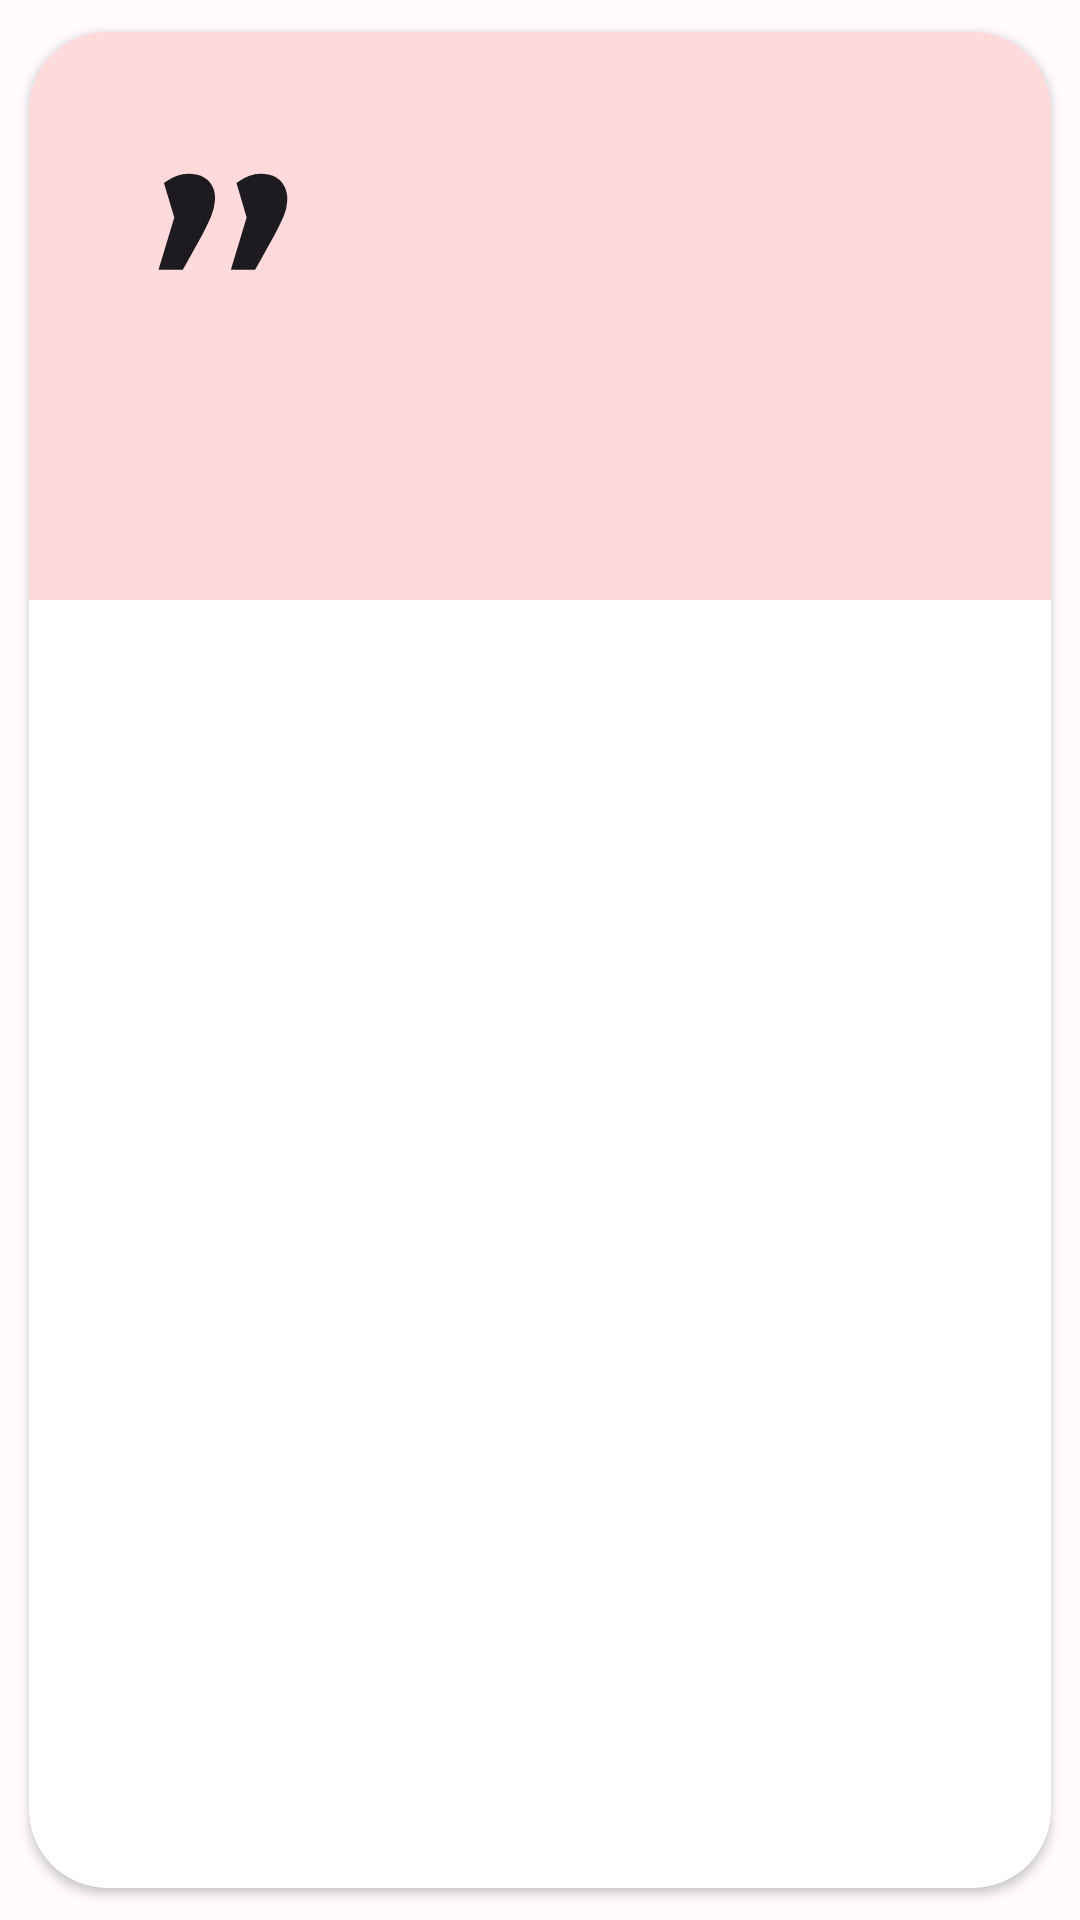

Point at icon controls on the screen. Image size 1080 × 1920, points as [x,y].
quote: [223,221]
